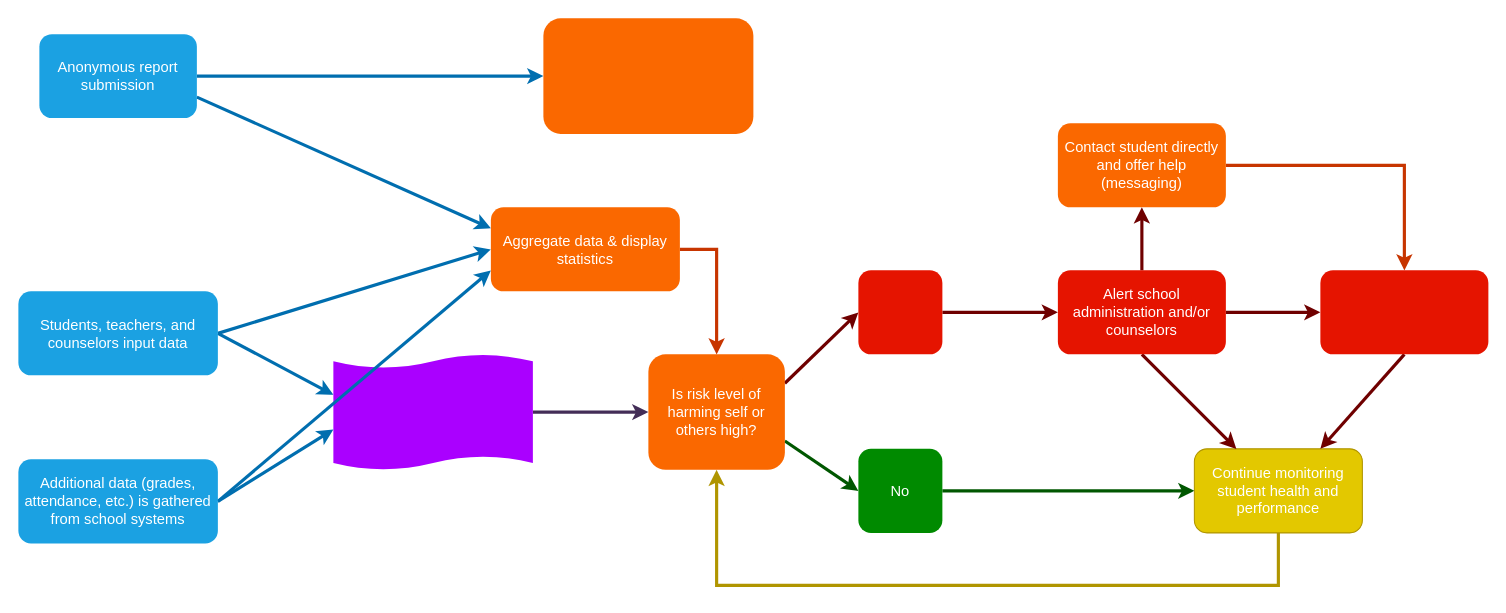
Some shapes in this 1506 by 613 pixel diagram are drawn without their labels. The centre of each missing label's shape, as x and y in pixels:
"Calculate risk level based on high number of factors" goes at pixel 432 411.
"If needed, escalate and consult mental health professionals" goes at pixel 1404 312.
"School officials view and respond to reports" goes at pixel 648 75.
"Yes" goes at pixel 900 312.
